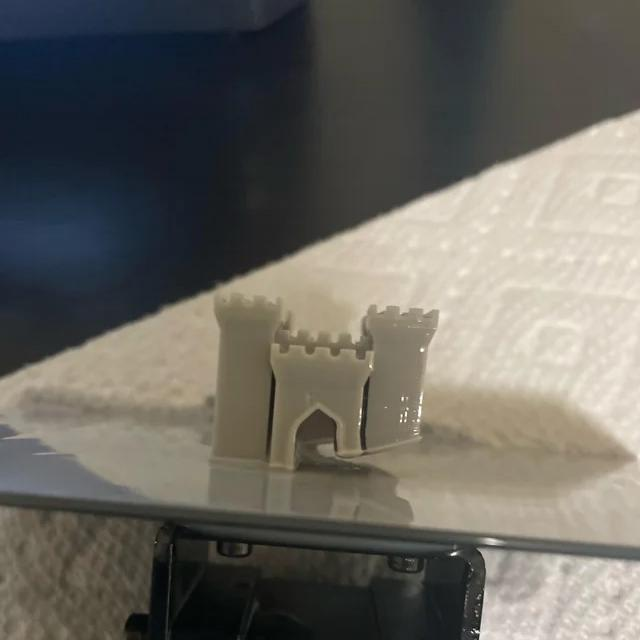Warping: (337, 430, 421, 466)
